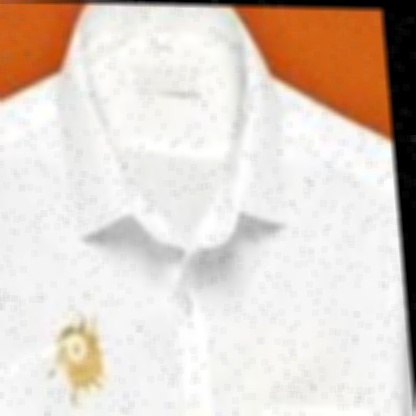coffee: (57, 326, 103, 387)
